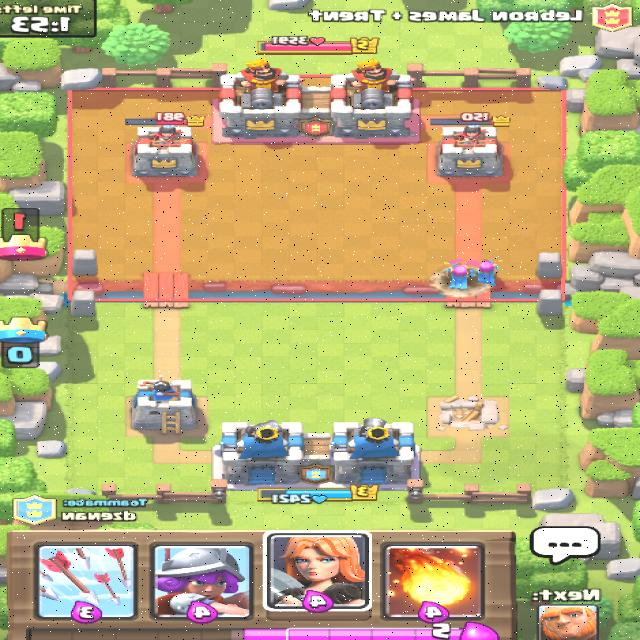Player-Archer: (442, 259, 477, 289), (478, 257, 502, 286)
